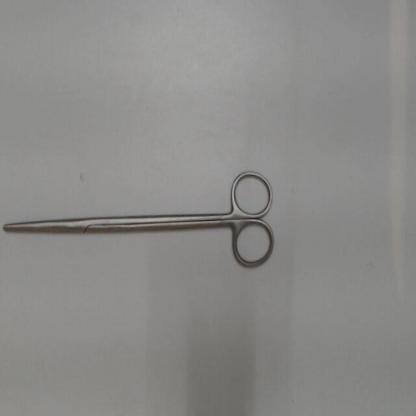9 Metzenbaum Scissors: (5, 162, 282, 277)
